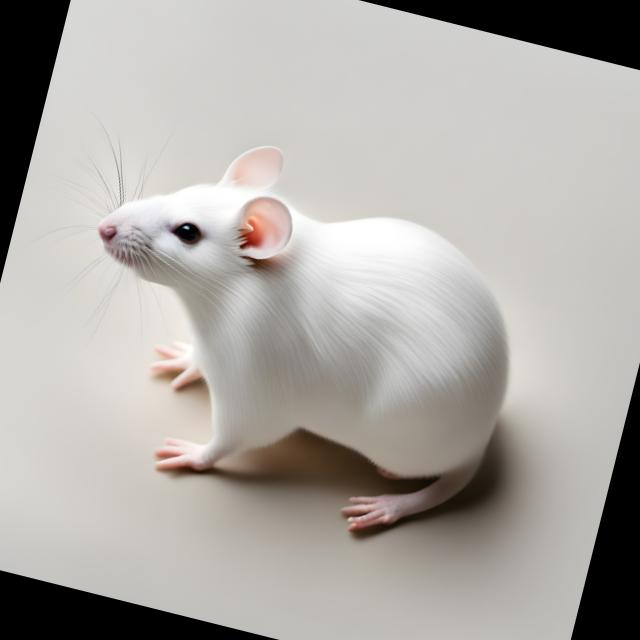rodents: (18, 90, 572, 592)
